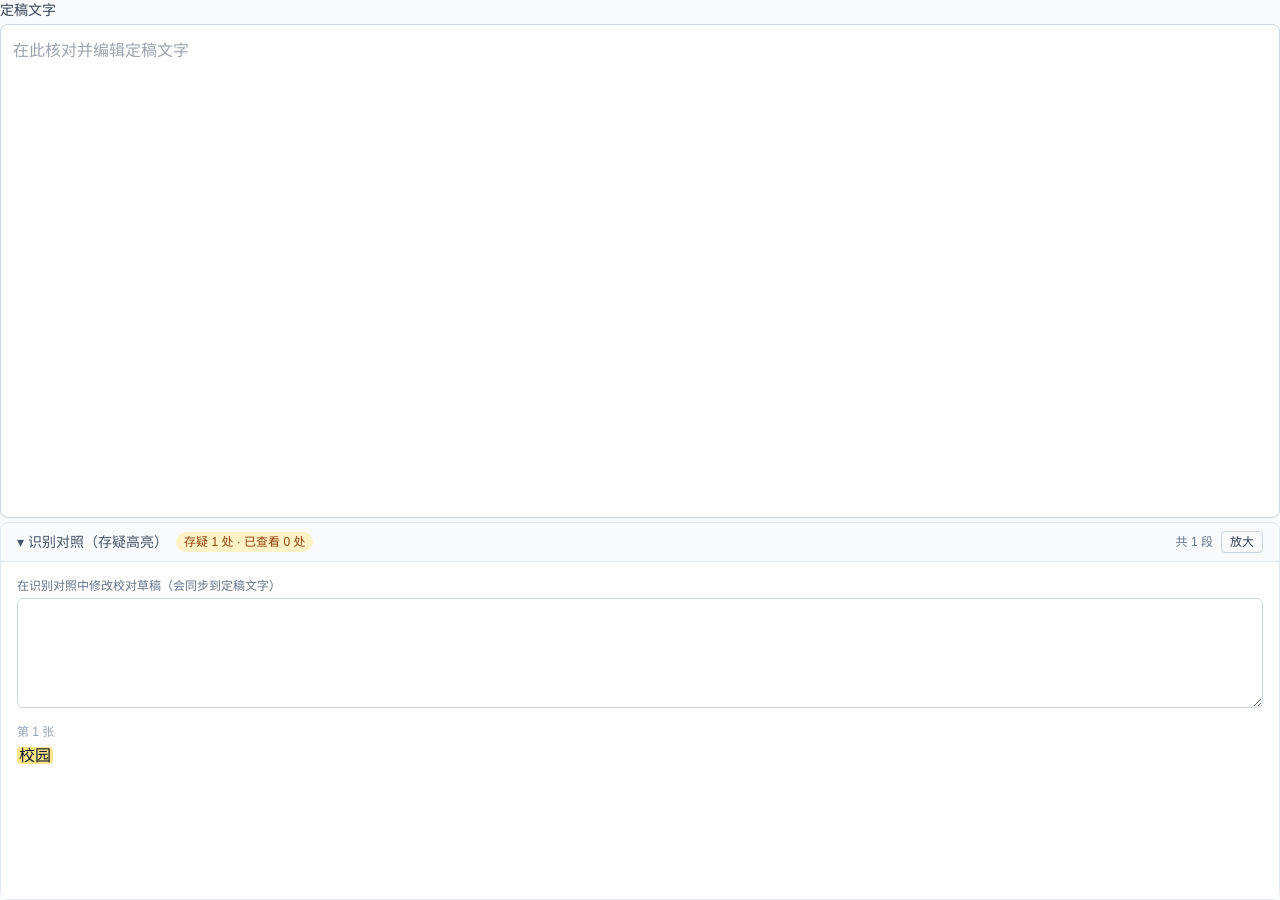
Scenario: DiffText rendering › tells the teacher how much reference content is inside the scrollable panel
Expected: the text with test id "compare-count" reads "共 1 段", [1176,534,1213,550]
Click the button with test id "diff-focus" at (1242, 542), box [1221,531,1263,553]
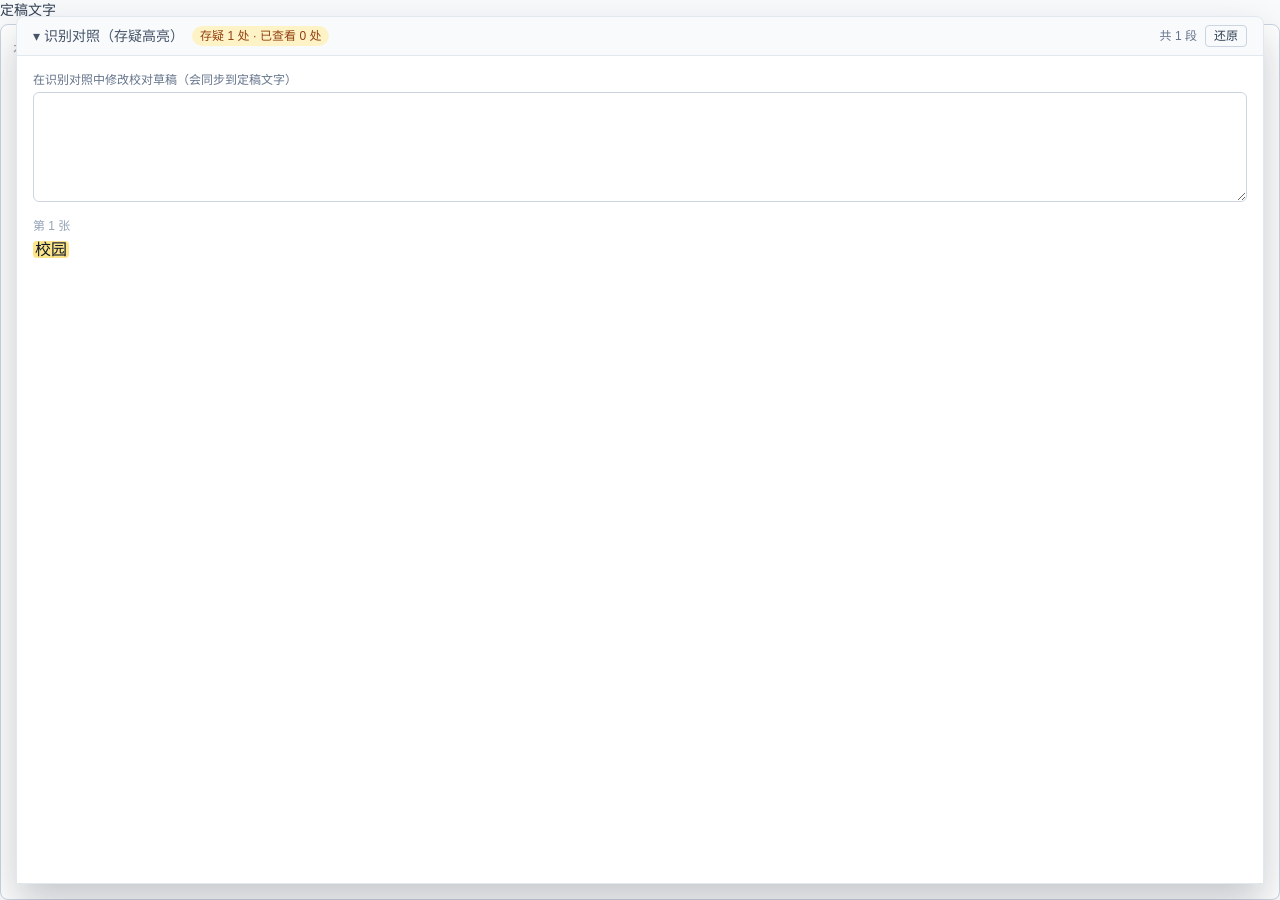
Result: the button with test id "diff-focus" reads "还原" at [1205,25,1247,47]
